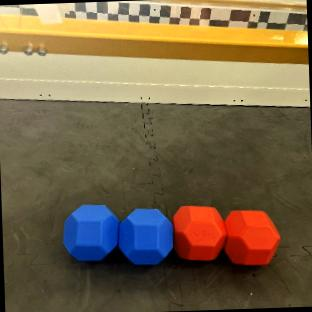V5_BLUE: (63, 205, 172, 264)
V5_RED: (172, 205, 280, 266)
pieces: (59, 199, 282, 271)
